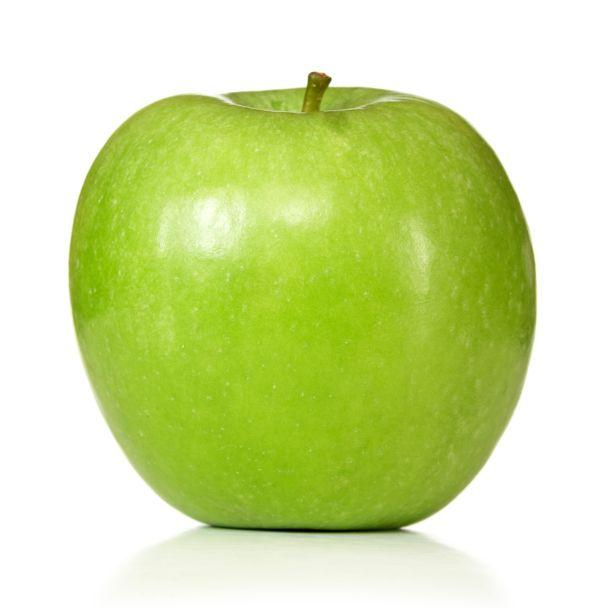HEALTHY: (48, 52, 553, 553)
